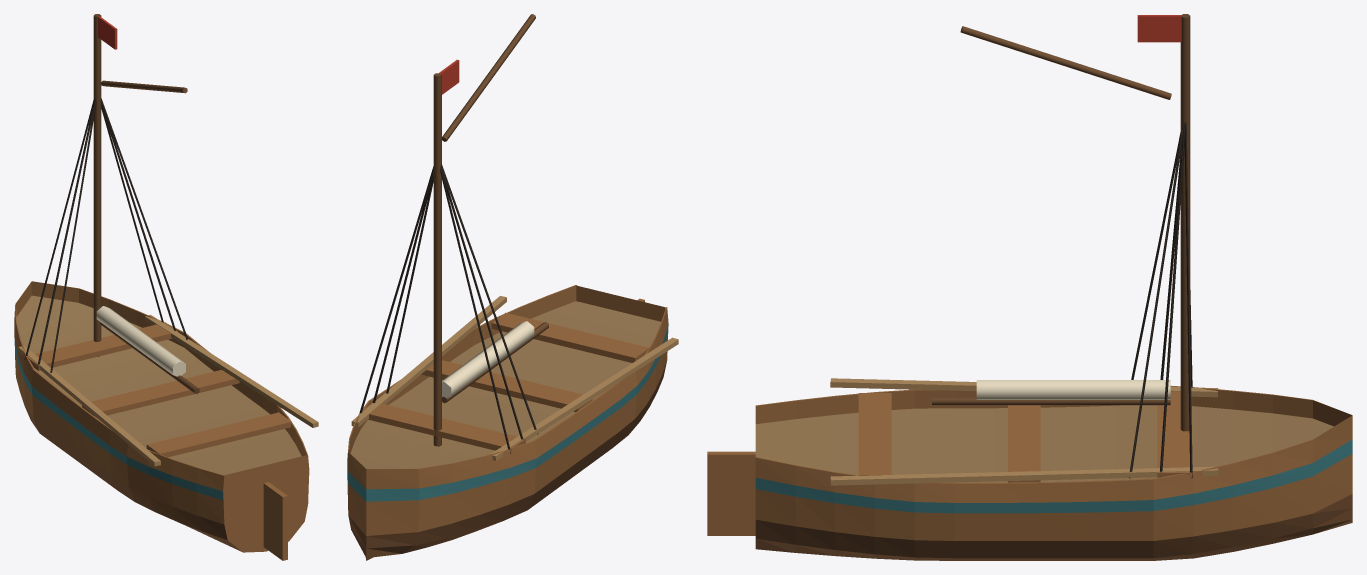
File: sawyer_ship_dinghy_furled.glb
3 views of the same model, side by side, from view 1: azimuth 30°, elevation 25°; view 2: azimuth 150°, elevation 25°; view 3: azimuth 270°, elevation 25° (orthographic). The views are drawn at different scales.
Parts seen in each view (by area): view 1: hull, mast0, thwart2, thwart1, thwart0, furl_main0, rudder, oar_r, oar_l, shroud0_-1_0, shroud0_-1_1, shroud0_-1_-1 (+6 smaller); view 2: hull, mast0, thwart0, thwart2, thwart1, furl_main0, oar_l, oar_r, gaff0, shroud0_-1_-1, shroud0_-1_0, shroud0_-1_1 (+5 smaller); view 3: hull, rudder, furl_main0, mast0, oar_r, thwart2, thwart1, thwart0, oar_l, gaff0, boom0, flag0 (+3 smaller).
Boxes of the visible parts, box(x1,y1,x2,y2) form: hull: box(14, 281, 309, 552); mast0: box(93, 14, 101, 356); thwart2: box(146, 412, 291, 457); thwart1: box(82, 370, 239, 417); thwart0: box(25, 322, 177, 370); furl_main0: box(96, 306, 185, 376); rudder: box(263, 482, 287, 560); oar_r: box(145, 314, 318, 427); oar_l: box(18, 345, 160, 466); shroud0_-1_0: box(37, 98, 94, 368); shroud0_-1_1: box(49, 99, 96, 377); shroud0_-1_-1: box(24, 98, 94, 359); hull: box(347, 285, 668, 560); mast0: box(433, 73, 441, 446); thwart0: box(362, 402, 525, 450); thwart2: box(491, 312, 649, 362); thwart1: box(421, 360, 592, 412); furl_main0: box(442, 321, 534, 398); oar_l: box(491, 337, 678, 460); oar_r: box(351, 296, 506, 427); gaff0: box(442, 14, 535, 141); shroud0_-1_-1: box(440, 166, 510, 453); shroud0_-1_0: box(441, 164, 524, 443); shroud0_-1_1: box(441, 164, 538, 434); hull: box(755, 385, 1352, 560); rudder: box(707, 451, 755, 535); furl_main0: box(976, 380, 1170, 399); mast0: box(1180, 14, 1190, 431); oar_r: box(830, 466, 1218, 485); thwart2: box(858, 393, 891, 475); thwart1: box(1008, 405, 1040, 482); thwart0: box(1157, 386, 1189, 477); oar_l: box(830, 378, 1218, 397); gaff0: box(960, 26, 1171, 99); boom0: box(932, 397, 1170, 405); flag0: box(1137, 15, 1181, 42).
Size of the model in its own units: 1.62 by 3.88 by 4.32.
